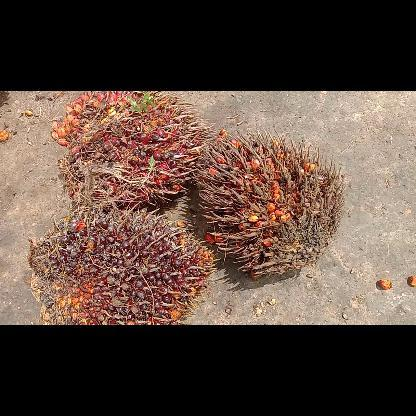Kurang masak: (26, 214, 212, 324)
TBS masak: (50, 90, 206, 209)
Terlalu masak: (198, 136, 346, 282)
